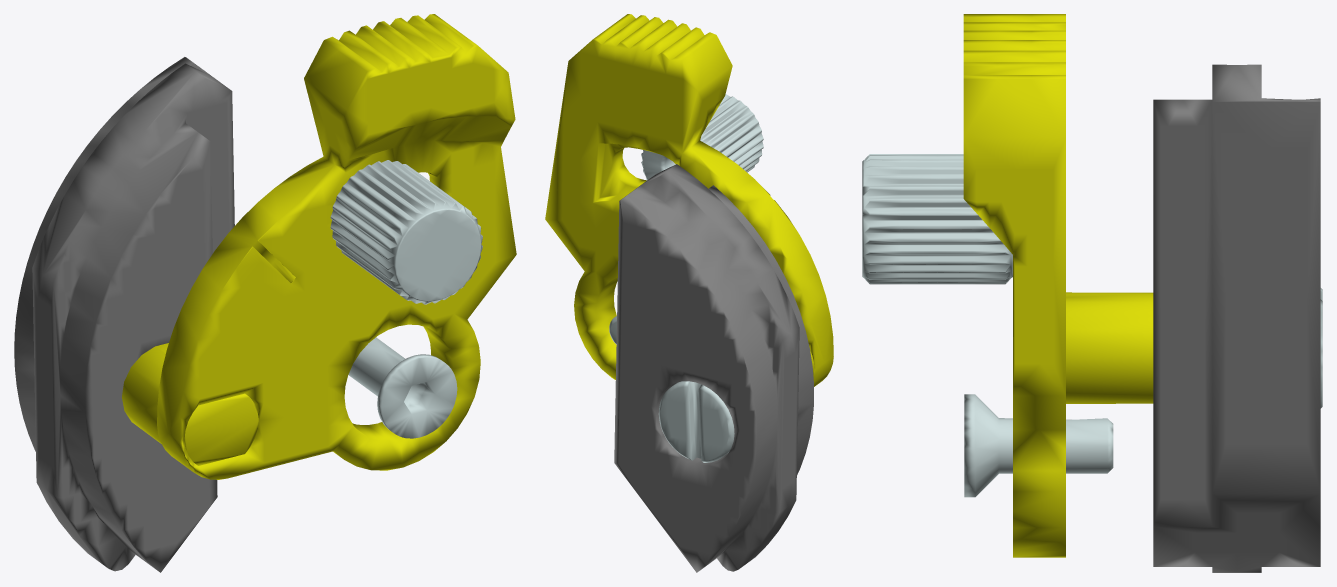
The model's file is bennettinsert_right_metal_deco.obj.
3 views of the same model, side by side, from view 1: azimuth 30°, elevation 25°; view 2: azimuth 150°, elevation 25°; view 3: azimuth 270°, elevation 25° (orthographic). The views are drawn at different scales.
Bounding box in the file's own units: 27.84 × 38.26 × 24.75.
